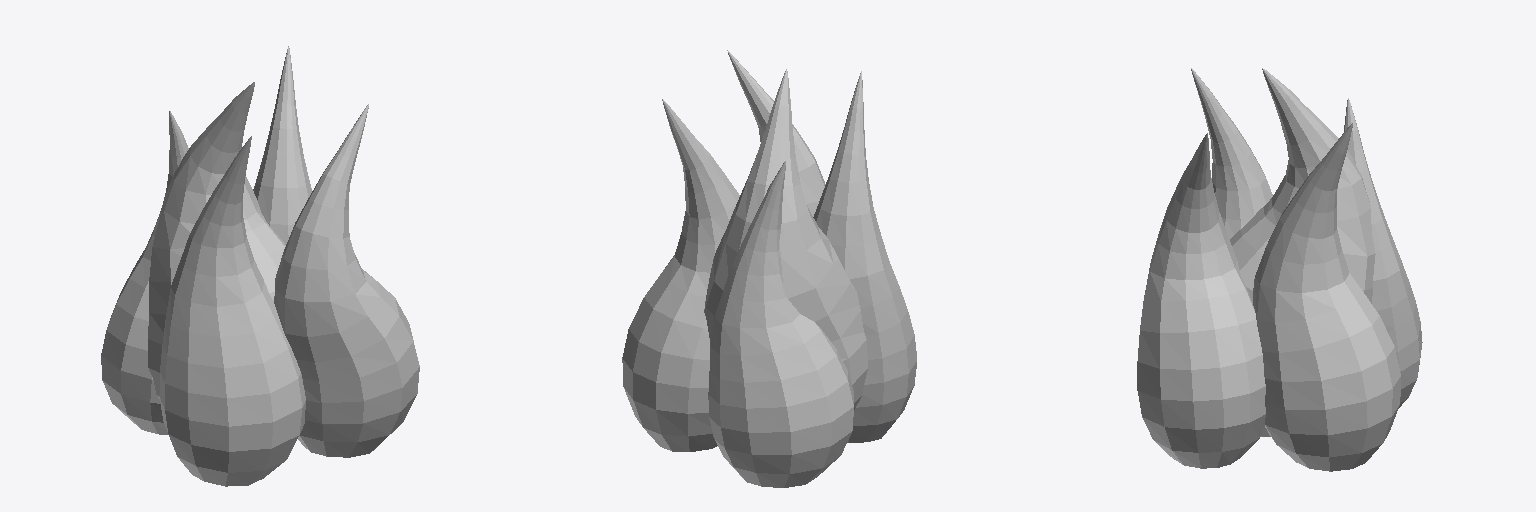
Rendered from fire_000014.obj.
3 renders of one model, left to right at view 1: azimuth 30°, elevation 25°; view 2: azimuth 150°, elevation 25°; view 3: azimuth 270°, elevation 25°, orthographic.
Parts seen in each view (by area): view 1: flame_NurbsPath.015; view 2: flame_NurbsPath.015; view 3: flame_NurbsPath.015.
Boxes of the visible parts, x1,y1,x2,y2 form: flame_NurbsPath.015: [101, 46, 419, 486]; flame_NurbsPath.015: [622, 50, 916, 487]; flame_NurbsPath.015: [1137, 68, 1422, 471].
Bounding box in the file's own units: 0.7544 × 1.14 × 0.8027.